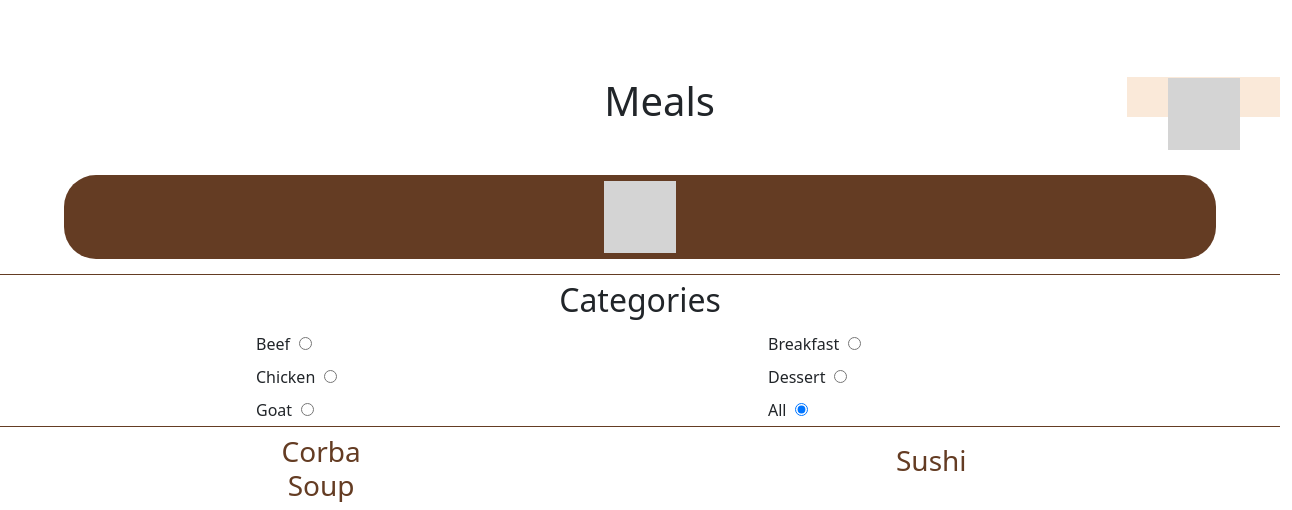
Verifica se o ícone de busca altera a visibilidade do input de busca
Step 1. Click the button with test id "search-top-btn" → coordinates (640, 217), box [64,175,1216,259]
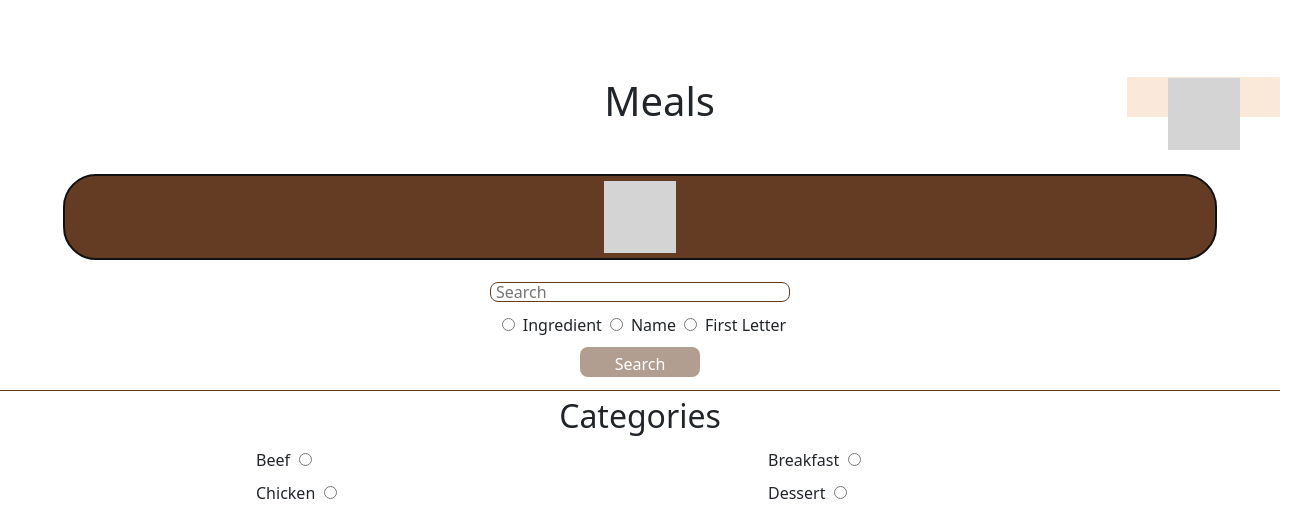
Check: the field with test id "search-input" is shown, box [490,282,790,302]
Step 2. Click the button with test id "search-top-btn" → coordinates (640, 217), box [64,175,1216,259]
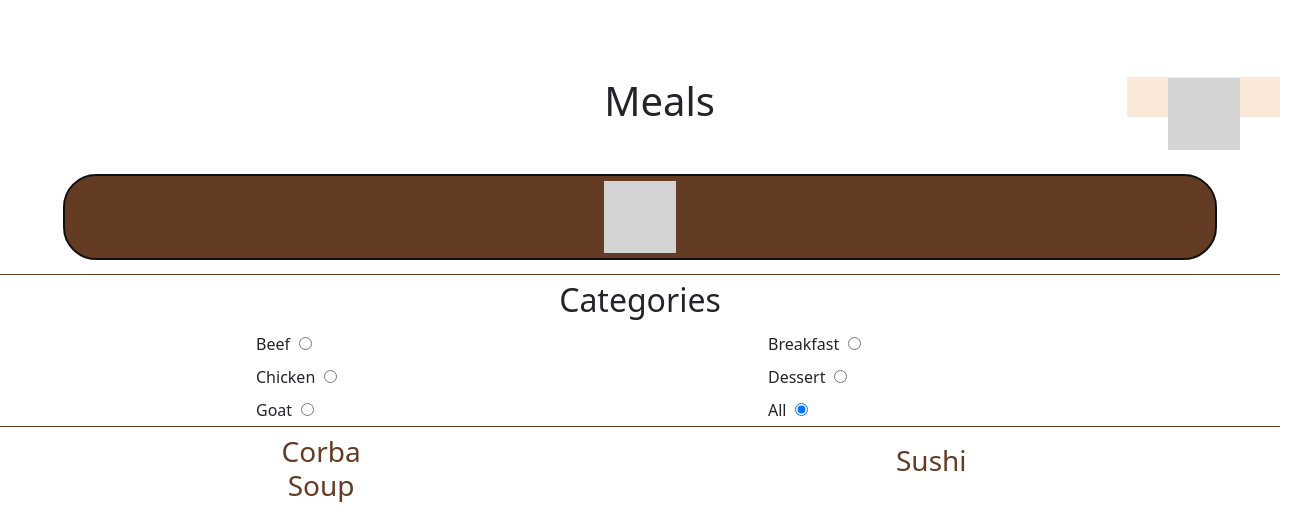
Check: the field with test id "search-input" is gone
